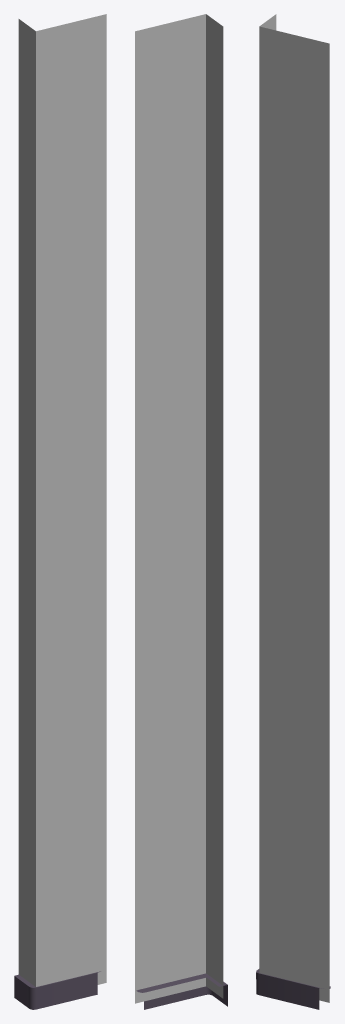
File: StoneWall004.FBX
3 views of the same model, side by side, from view 1: azimuth 30°, elevation 25°; view 2: azimuth 210°, elevation 25°; view 3: azimuth 330°, elevation 25° (orthographic).
Visible parts, largest first — view 1: StoneWall004; view 2: StoneWall004; view 3: StoneWall004.
Boxes of the visible parts, x1=… form: StoneWall004: x1=14, y1=14, x2=106, y2=1009; StoneWall004: x1=135, y1=14, x2=227, y2=1009; StoneWall004: x1=256, y1=14, x2=330, y2=1009.
Bounding box in the file's own units: 1.09 × 13.56 × 0.446.
